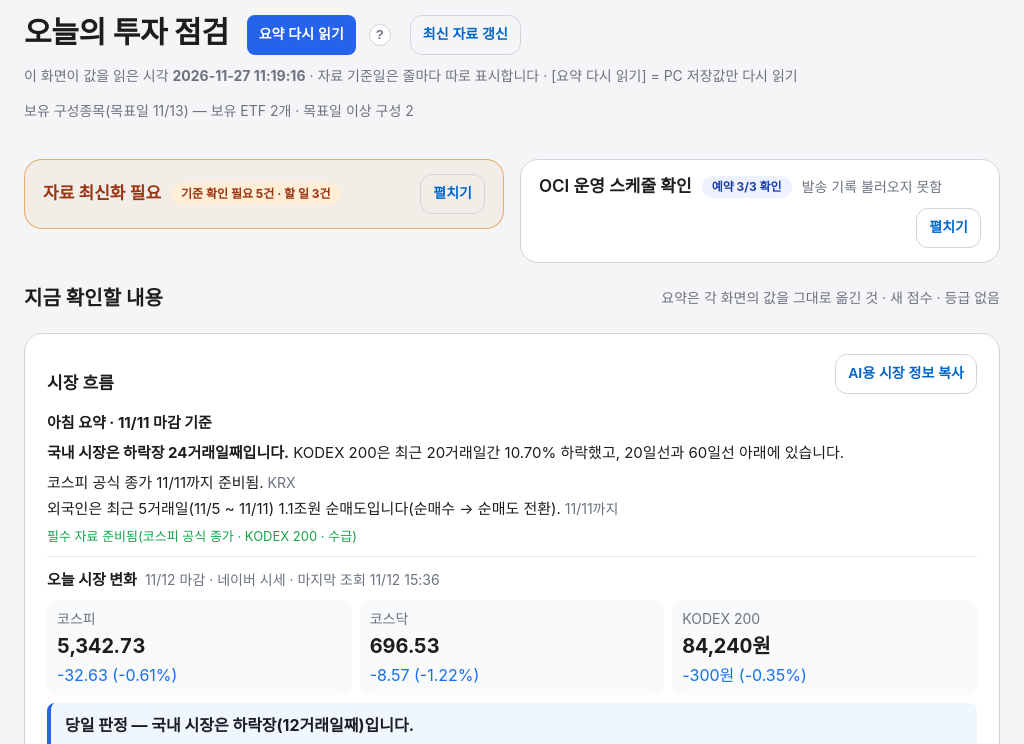
TodayInvestmentCheckView › §4.4 board: 개발 중 + 이번 단계 미도입 기능을 모두 기록한다
The width and height of the screenshot is (1024, 744).
Click the button with class "tc-fold-btn" next to "기준 확인 필요 5건 · 할 일 3건" at (453, 194), box [420,174,485,214]
(page scrolled)
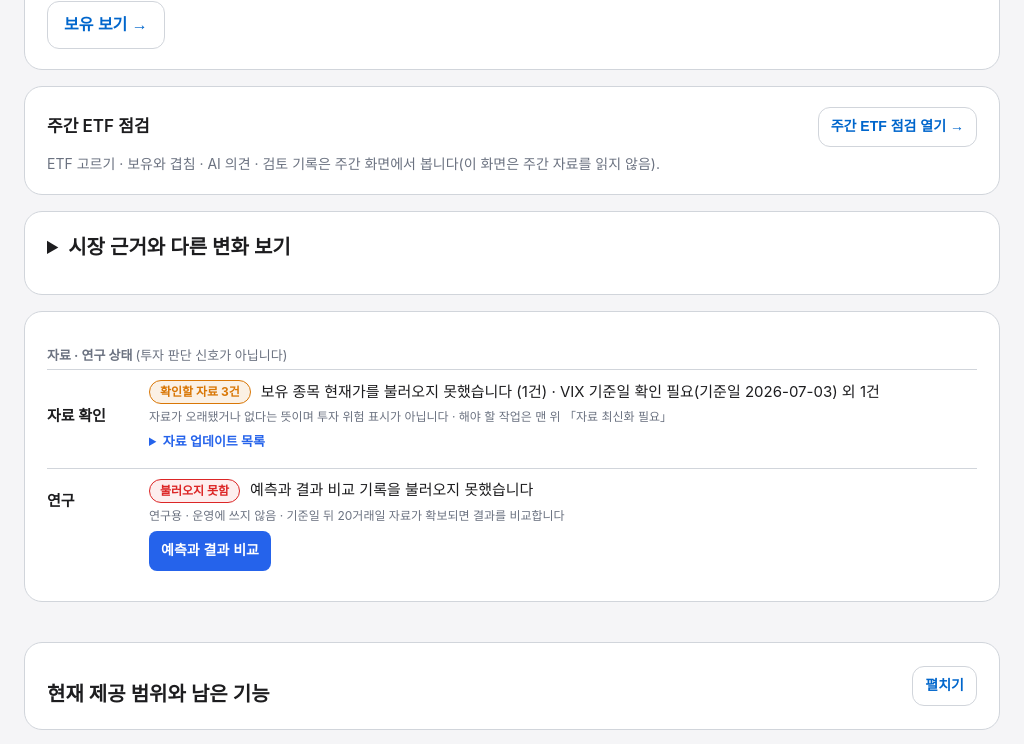
Click the button with class "tc-fold-btn" showing "펼치기" at (945, 686), box [912,666,977,706]
(page scrolled)
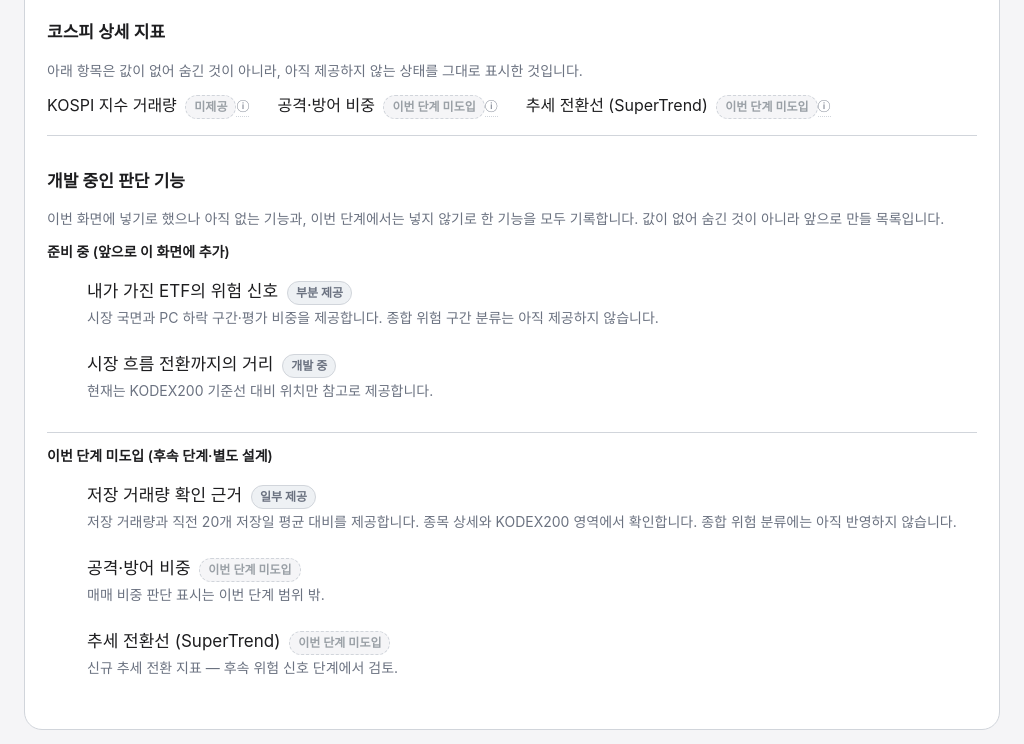
Check: the list item "내가 가진 ETF의 위험 신호" is shown, box [87,281,278,301]
Check: the list item "공격·방어 비중 이번 단계 미도입 매매 비중 판단 표시는 이번 단계 범위 밖." is shown, box [87,558,325,603]
Check: the list item "SuperTrend" is shown, box [87,631,280,651]
